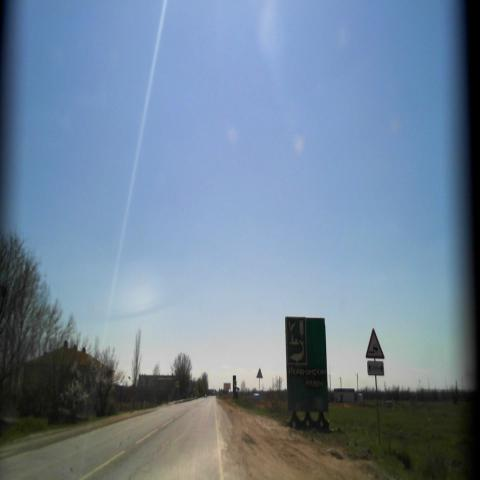1_19: (364, 326, 385, 358)
1_22: (256, 368, 263, 378)
